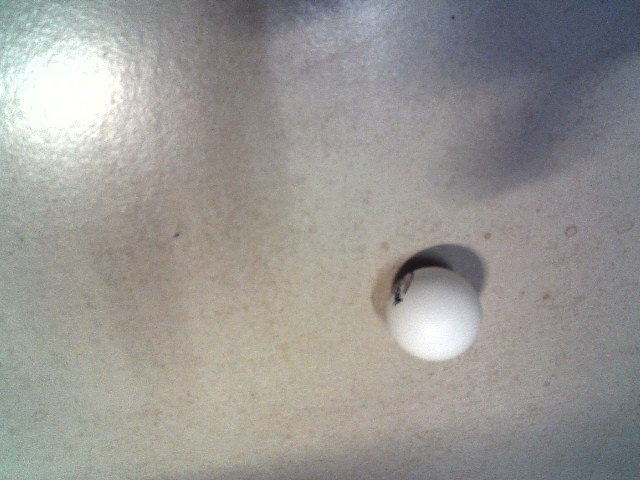pingpong: (385, 267, 481, 360)
